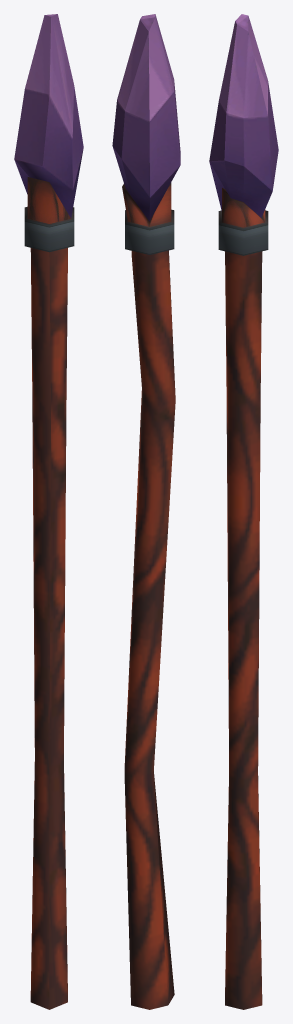
File: spear.fbx
3 renders of one model, left to right at view 1: azimuth 90°, elevation 25°; view 2: azimuth 210°, elevation 25°; view 3: azimuth 270°, elevation 25°, orthographic.
Visible parts, largest first — view 1: spear; view 2: spear; view 3: spear.
Boxes of the visible parts, bbox=[...] form: spear: bbox=[14, 14, 83, 1009]; spear: bbox=[112, 14, 180, 1009]; spear: bbox=[209, 14, 278, 1009].
Size of the model in its own units: 0.2345 by 3.94 by 0.2523.
